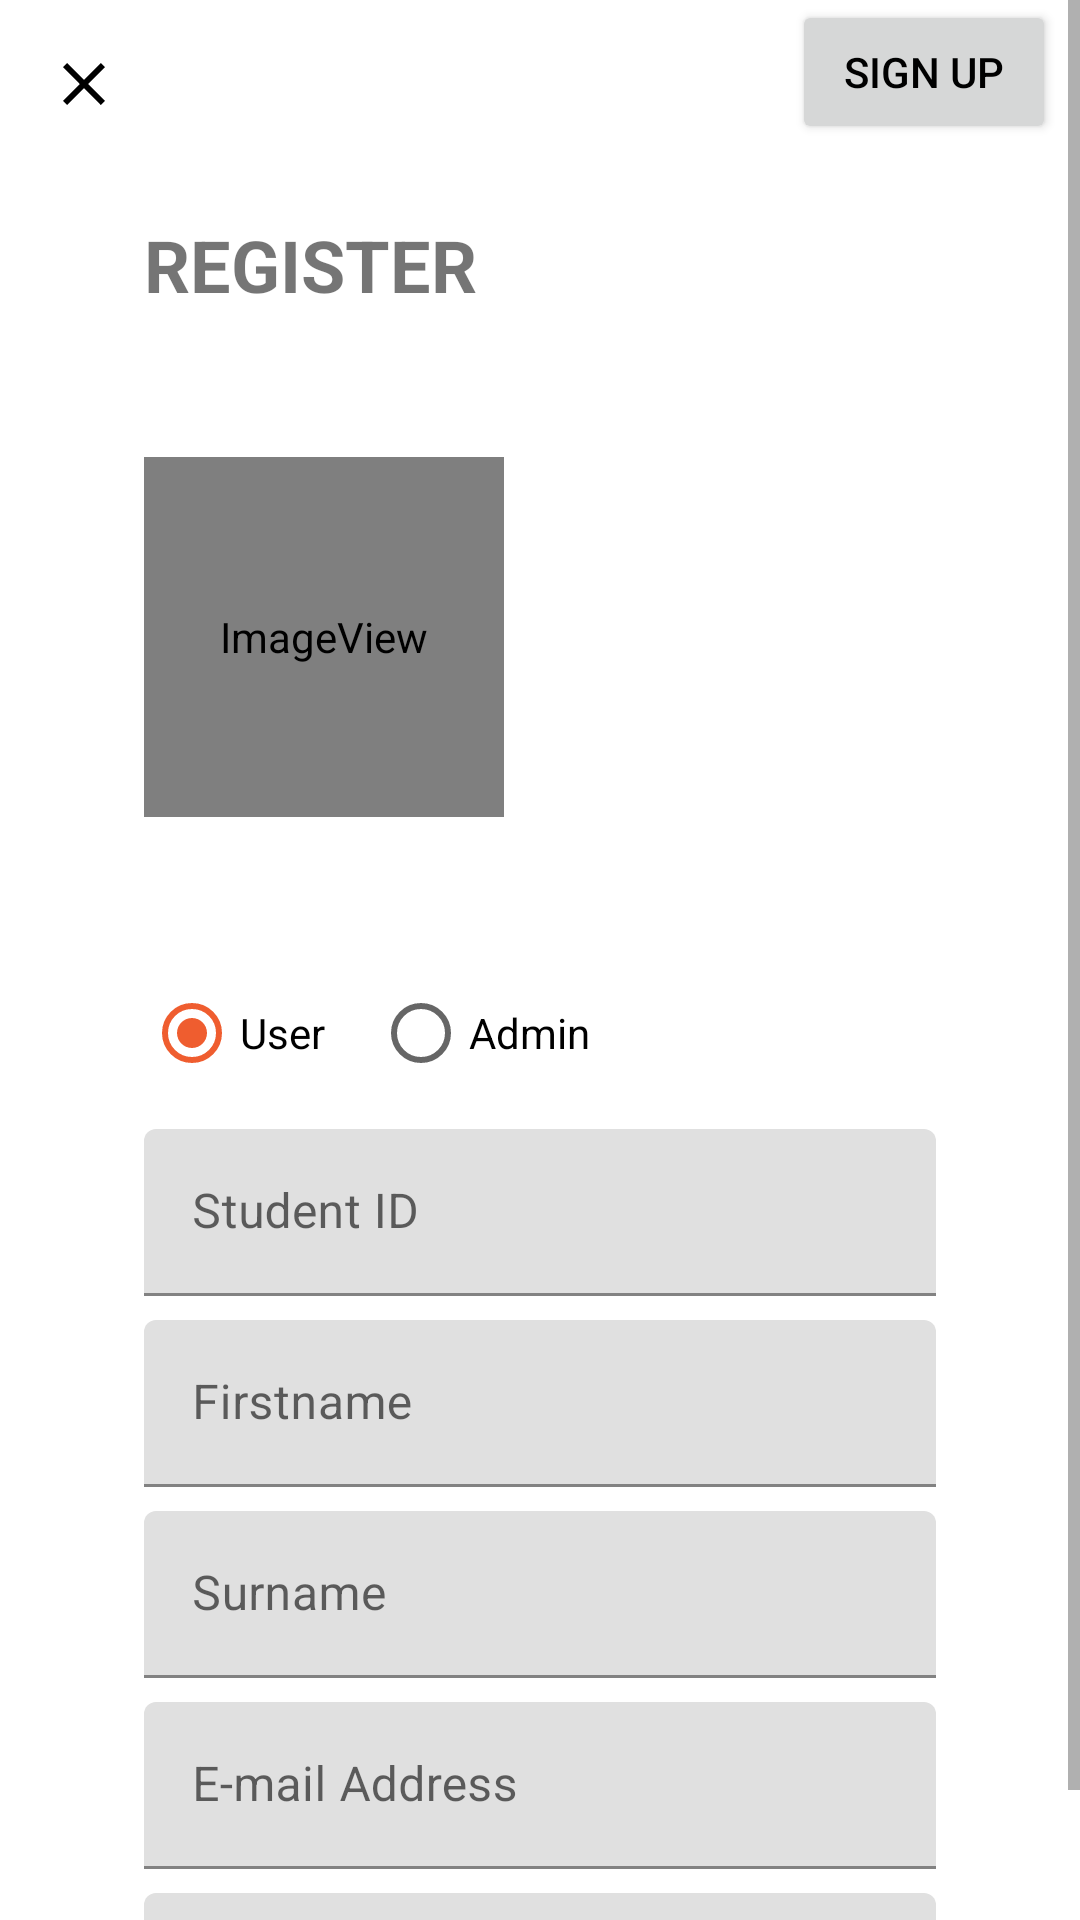

Icon click points for this 1080px x 1920px phone screenshot, format point (x, y):
Exit: point (84, 84)
